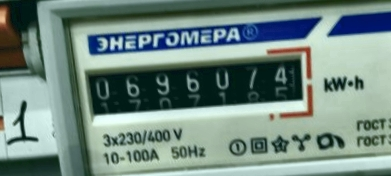0: (88, 73, 109, 98), (210, 63, 228, 89)
4: (268, 59, 285, 82)
5: (270, 84, 287, 100)
6: (181, 65, 200, 92), (120, 71, 139, 96)
7: (240, 62, 259, 88)
9: (150, 68, 168, 95)
screen: (71, 40, 315, 125)
